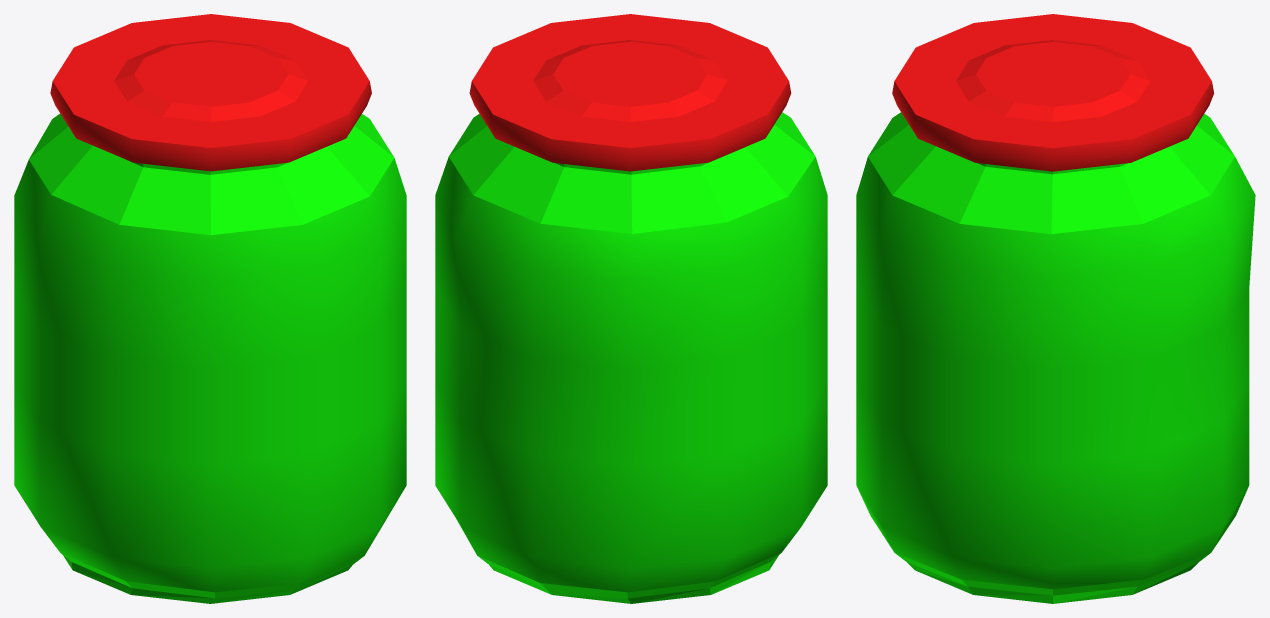
The model's file is JamJar.fbx.
3 renders of one model, left to right at view 1: azimuth 30°, elevation 25°; view 2: azimuth 150°, elevation 25°; view 3: azimuth 270°, elevation 25°, orthographic.
Visible parts, largest first — view 1: Jam Jar, JamLid; view 2: Jam Jar, JamLid; view 3: Jam Jar, JamLid.
Part boxes in pixels (<box>): Jam Jar: <box>14,113,406,603</box>; JamLid: <box>50,14,371,171</box>; Jam Jar: <box>435,112,827,603</box>; JamLid: <box>469,14,791,171</box>; Jam Jar: <box>856,112,1255,603</box>; JamLid: <box>892,14,1214,171</box>.
Bounding box in the file's own units: 4.94 × 6.42 × 5.02.
